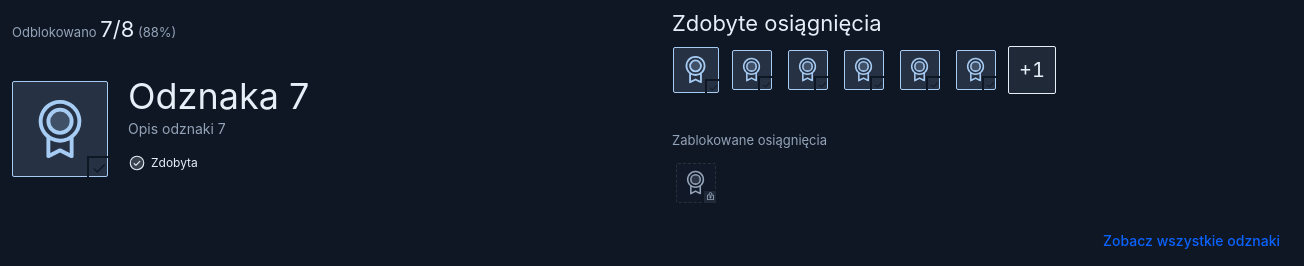
Test: achievement showcase › shows completion, unlocked and locked icons, and the selected requirement
This screenshot has width=1304, height=266.
Expected: the text "7/8" is shown, [100,16,134,42]
Click the button named "Odznaka 8 - zablokowana" at (696, 183), box [672,159,720,207]
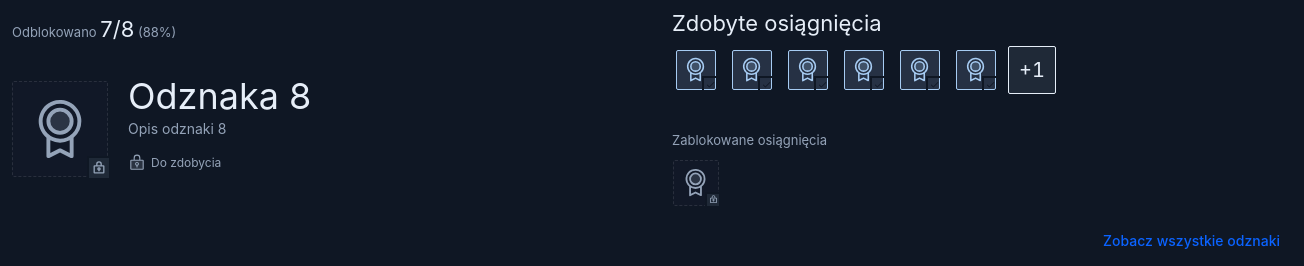
Expected: the text "Opis odznaki 8" is shown, [128,120,226,137]
Expected: the text "Do zdobycia" is shown, [128,153,221,172]
